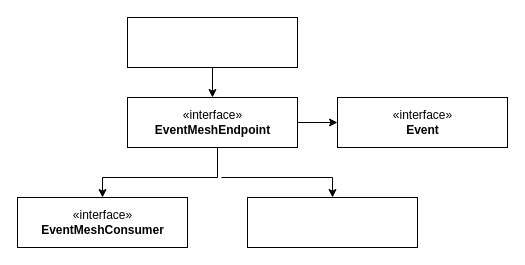
Image size: 525x265. Some labels were removed from this diagram. Each missing label, with the centre of its shape:
«interface» EventMeshComponent: (x=212, y=42)
«interface» EventMeshProducer: (x=332, y=222)
